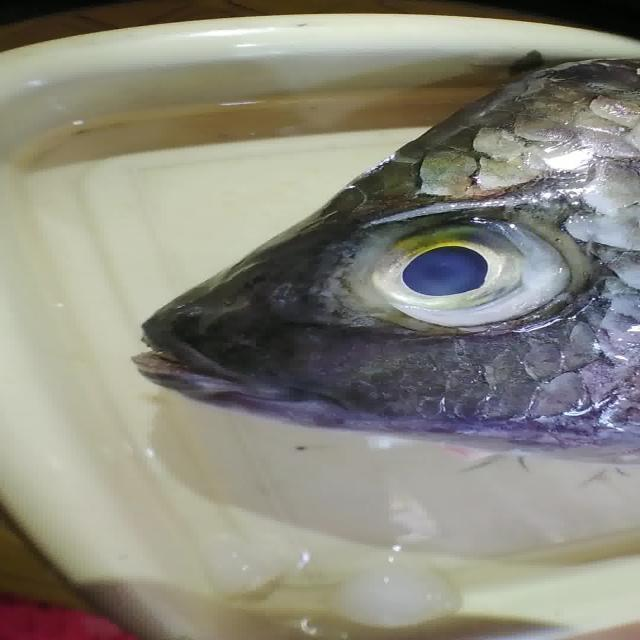Fresh: (344, 213, 578, 336)
